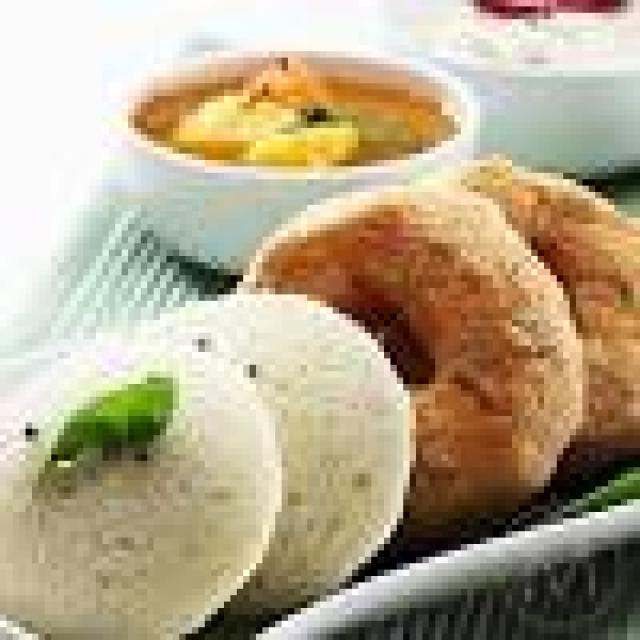Wet Waste: (102, 275, 404, 595), (0, 326, 262, 633)
